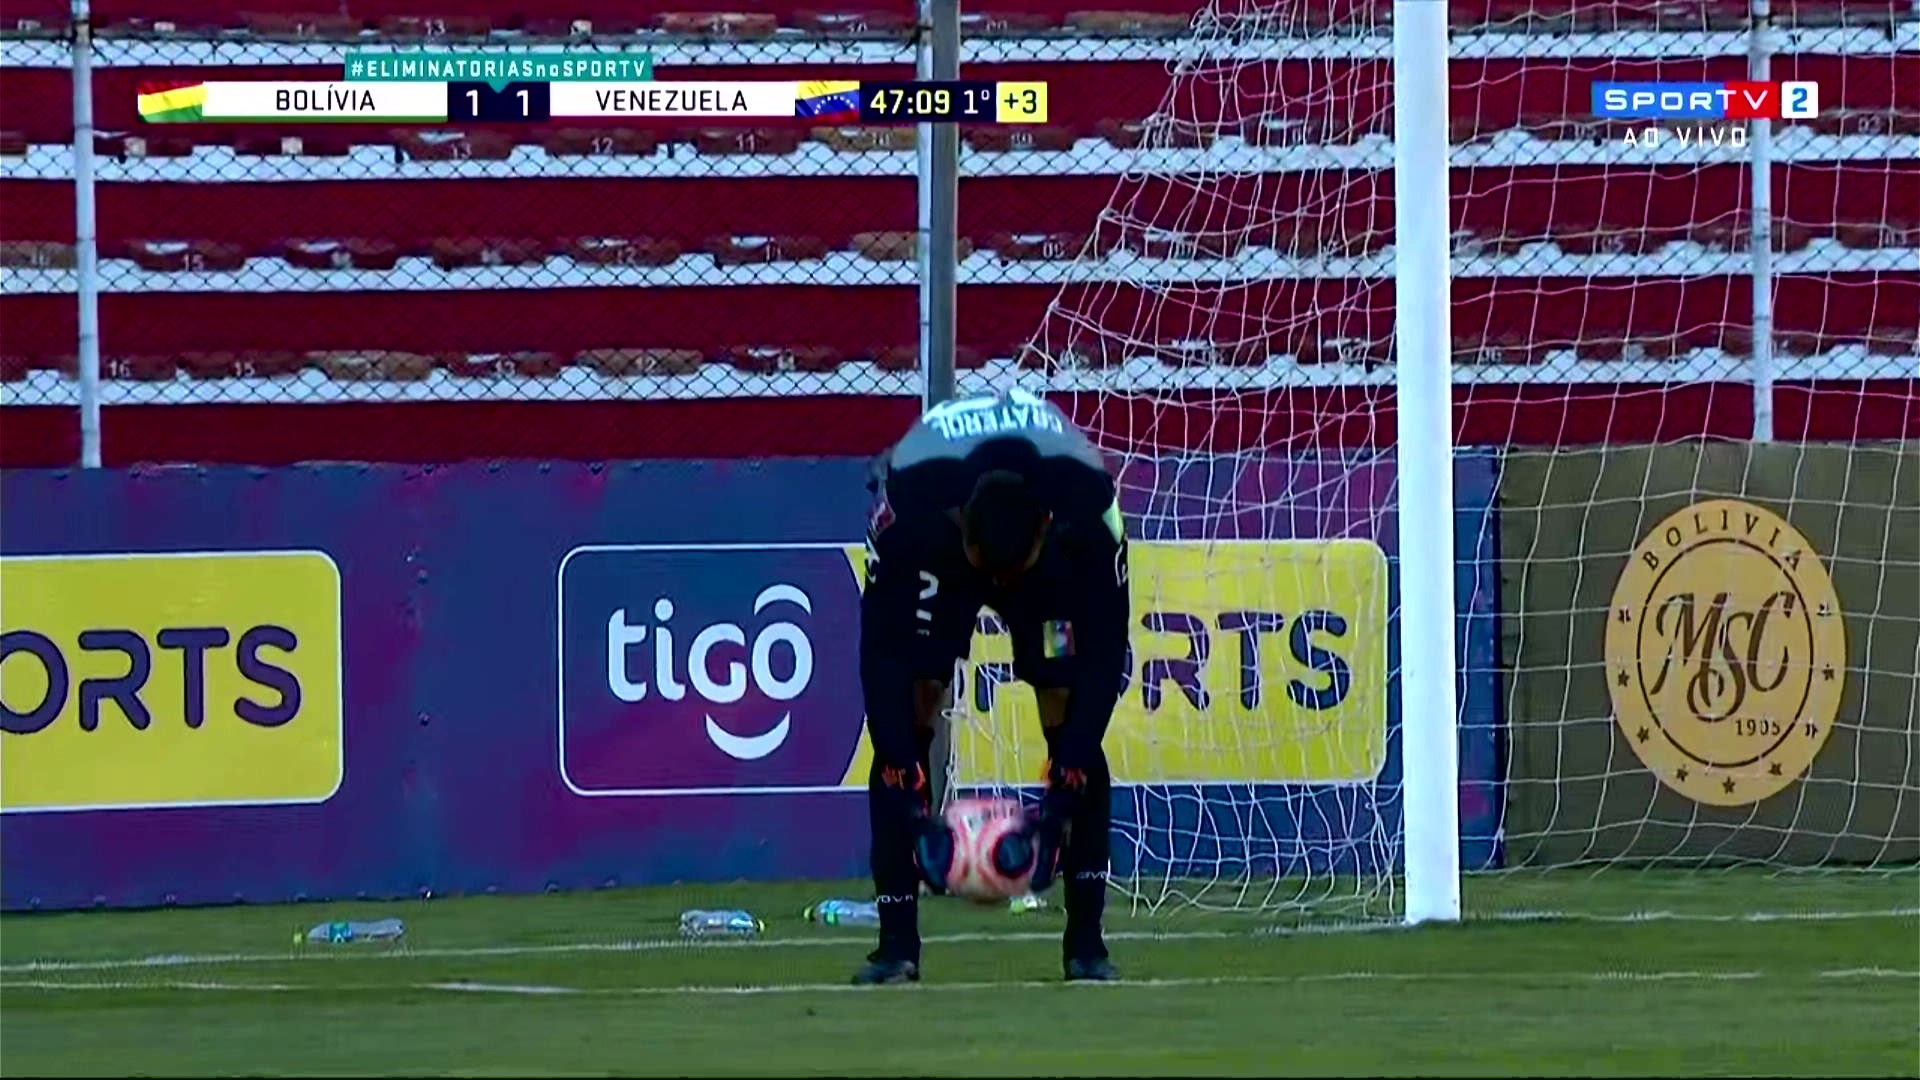sportv2: (1588, 80, 1822, 120)
